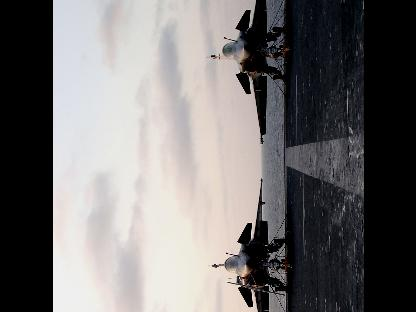RQ4: (204, 0, 283, 145), (206, 178, 285, 311)
